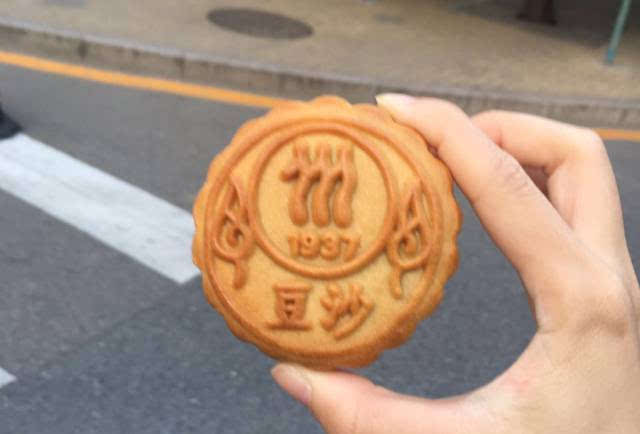MoonCake: (189, 96, 463, 372)
